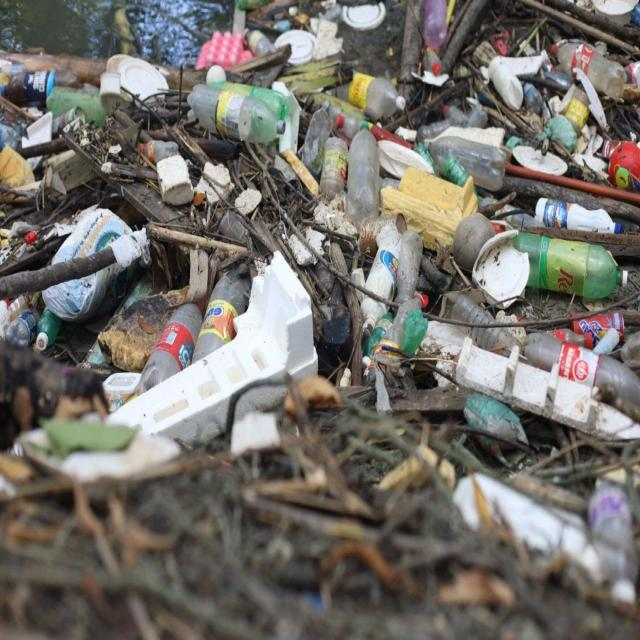garbage: (9, 4, 640, 576)
